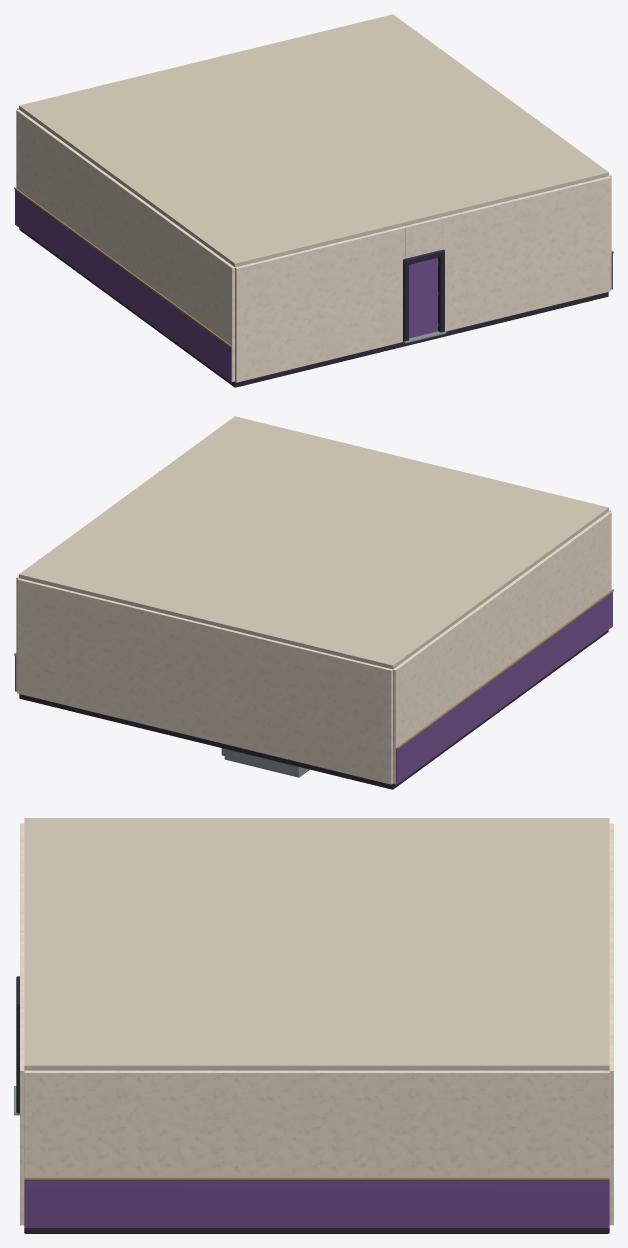
File: inspection_hall_changed.glb
3 renders of one model, top to bottom at view 1: azimuth 30°, elevation 25°; view 2: azimuth 150°, elevation 25°; view 3: azimuth 270°, elevation 25°, orthographic. The views are drawn at different scales.
Visible parts, largest first — view 1: ceiling.037, wall.098, wall.097, wall.100, lower_panel.099, front.031_leaf, floor_west.001, door_lintel.024, floor_east.001, panel_rail.099, front.031_jamb; view 2: ceiling.037, wall.099, wall.100, lower_panel.099, floor_west.001, floor_east.001, panel_rail.099, tank_wall.007; view 3: ceiling.037, wall.101, lower_panel.100, floor_east.001, panel_rail.100, wall.099, wall.097, wall.098.
Boxes of the visible parts, x1,y1,x2,y2 form: ceiling.037: (19,14,608,267); wall.098: (235,226,404,382); wall.097: (440,176,610,331); wall.100: (16,109,234,382); lower_panel.099: (15,190,231,382); front.031_leaf: (409,257,437,338); floor_west.001: (19,228,384,387); door_lintel.024: (404,217,441,258); floor_east.001: (459,292,608,332); panel_rail.099: (14,187,230,346); front.031_jamb: (438,255,444,332); ceiling.037: (19,416,608,669); wall.099: (17,578,392,784); wall.100: (393,511,611,784); lower_panel.099: (396,592,612,784); floor_west.001: (243,630,608,789); floor_east.001: (19,694,168,734); panel_rail.099: (397,589,613,748); tank_wall.007: (221,748,299,774); ceiling.037: (24,818,609,1070); wall.101: (24,1070,609,1177); lower_panel.100: (24,1180,609,1227); floor_east.001: (24,1228,609,1233); panel_rail.100: (24,1177,609,1180); wall.099: (609,823,613,1225); wall.097: (20,959,24,1225); wall.098: (20,823,24,934).
Size of the model in its own units: 12.32 by 5.82 by 12.3.
9 materials, 2 textured.
